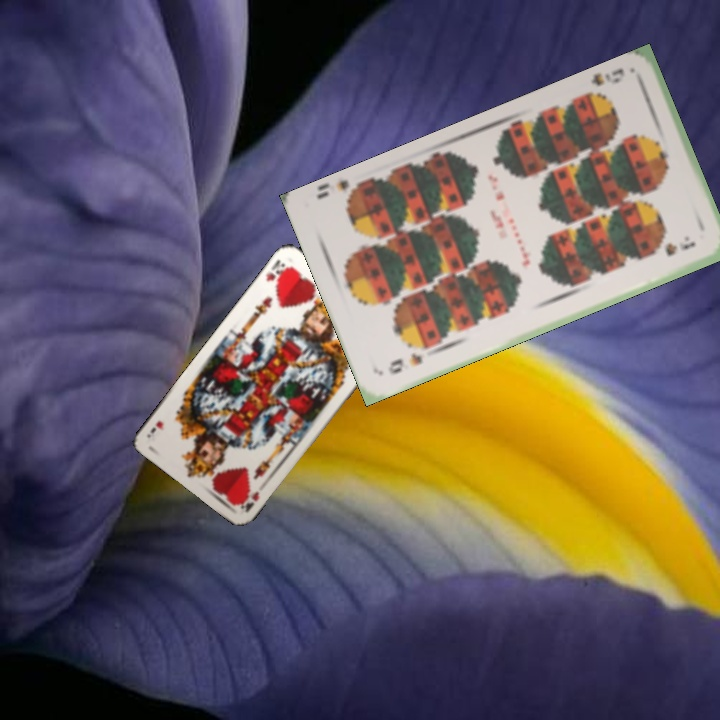HK: (262, 256, 293, 290), (237, 488, 262, 515)
S9: (578, 64, 627, 101), (384, 348, 425, 377)
